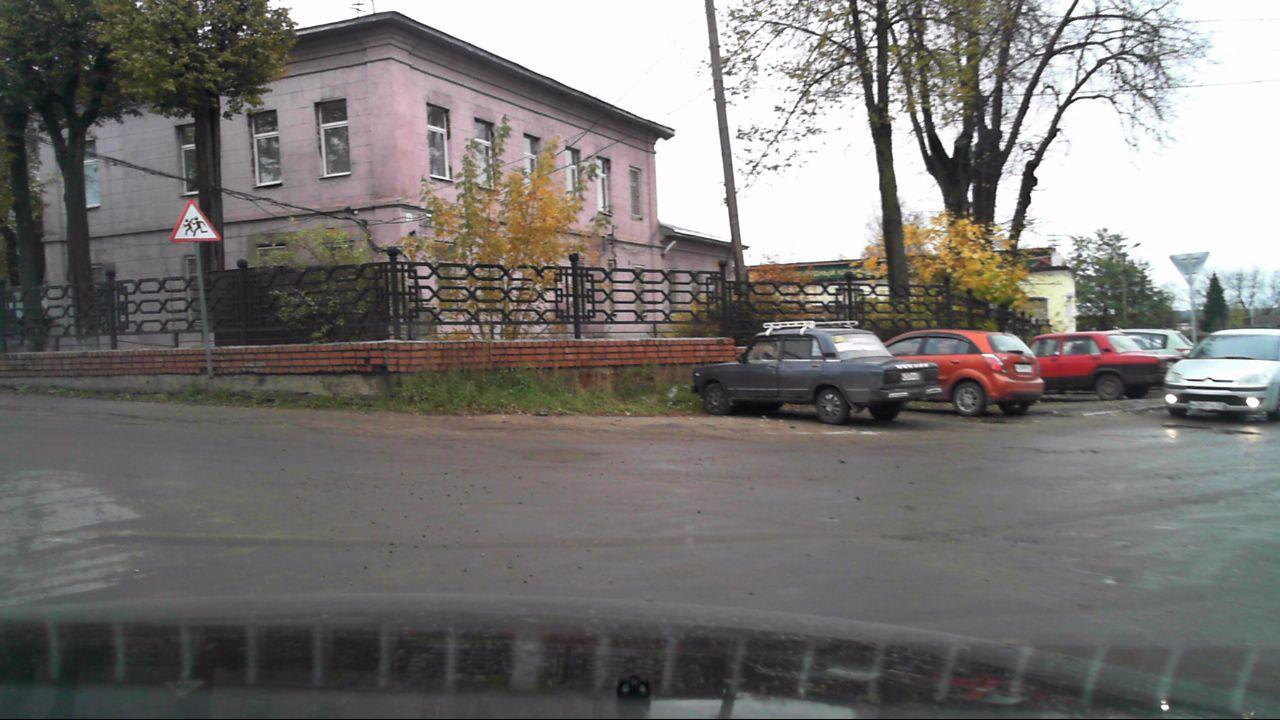road_sign: (166, 195, 225, 243)
